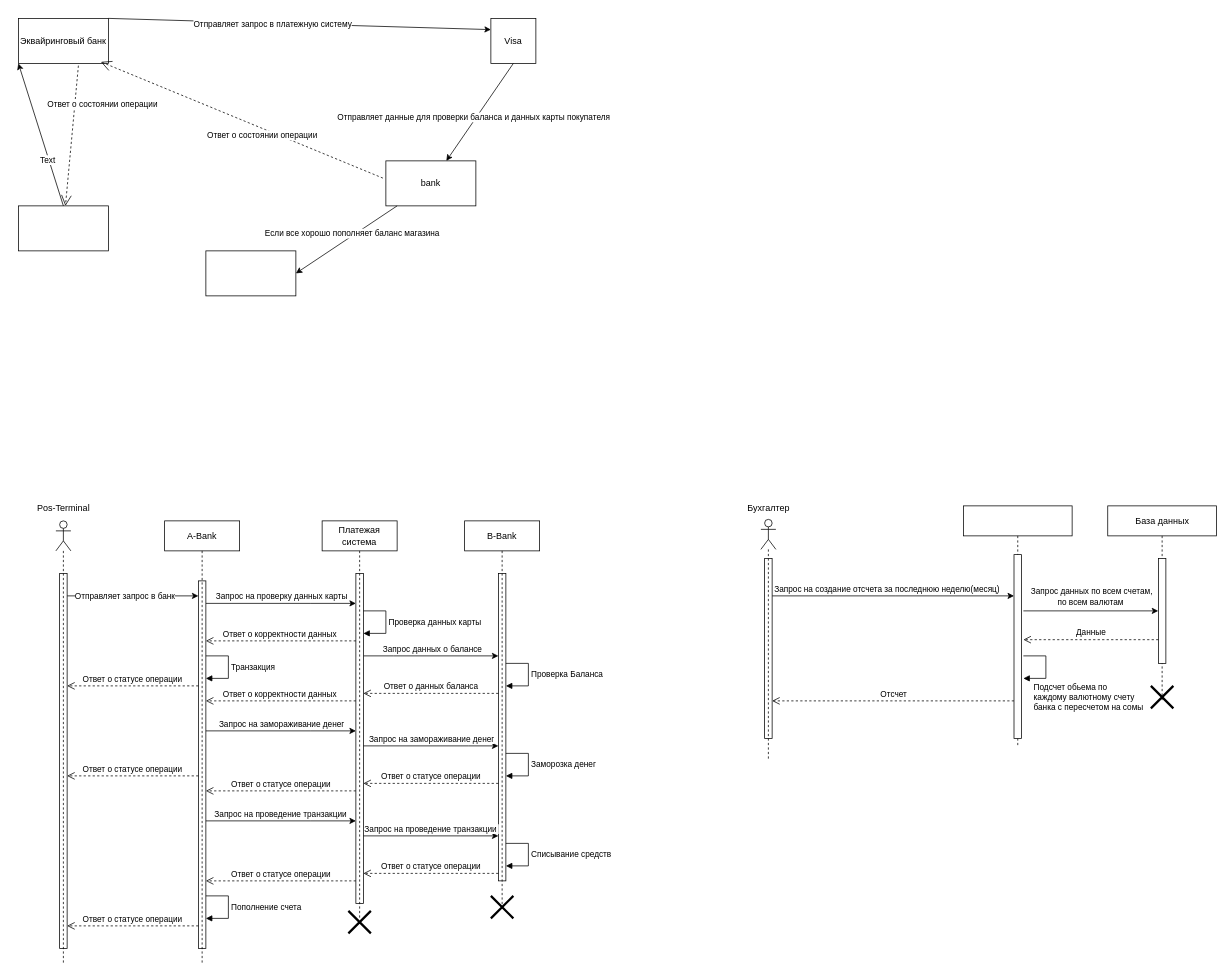
Image size: 1230x977. Some labels were removed from this diagram. Each missing label, with the box of its shape:
Bank-B: (963, 505, 1072, 746)
Post terminal: (18, 205, 108, 251)
баланс магазина: (205, 250, 296, 296)
